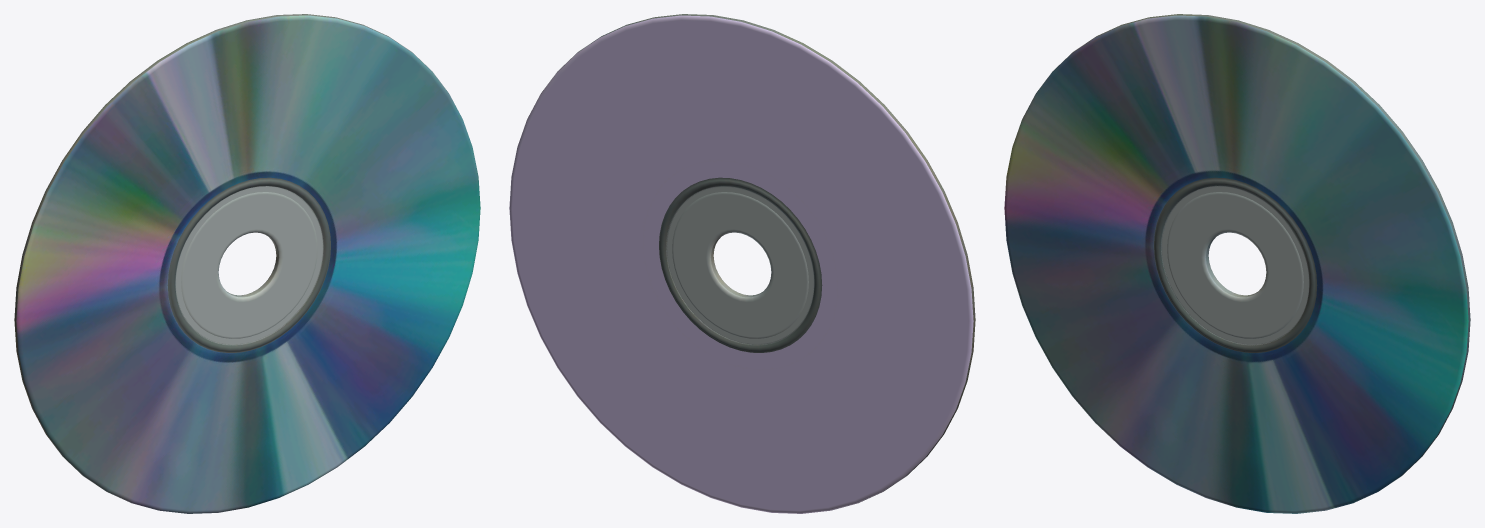
The picture shows the model from 3 angles, left to right: view 1: azimuth 30°, elevation 25°; view 2: azimuth 150°, elevation 25°; view 3: azimuth 330°, elevation 25°; orthographic projection.
Visible parts, largest first — view 1: node_id308; view 2: node_id308; view 3: node_id308.
Boxes of the visible parts, x1,y1,x2,y2 form: node_id308: (14,14,480,513); node_id308: (509,14,975,513); node_id308: (1004,14,1470,513).
Bounding box in the file's own units: 0.512 × 0.512 × 0.011.
Materials: 1 (1 with a texture image).
